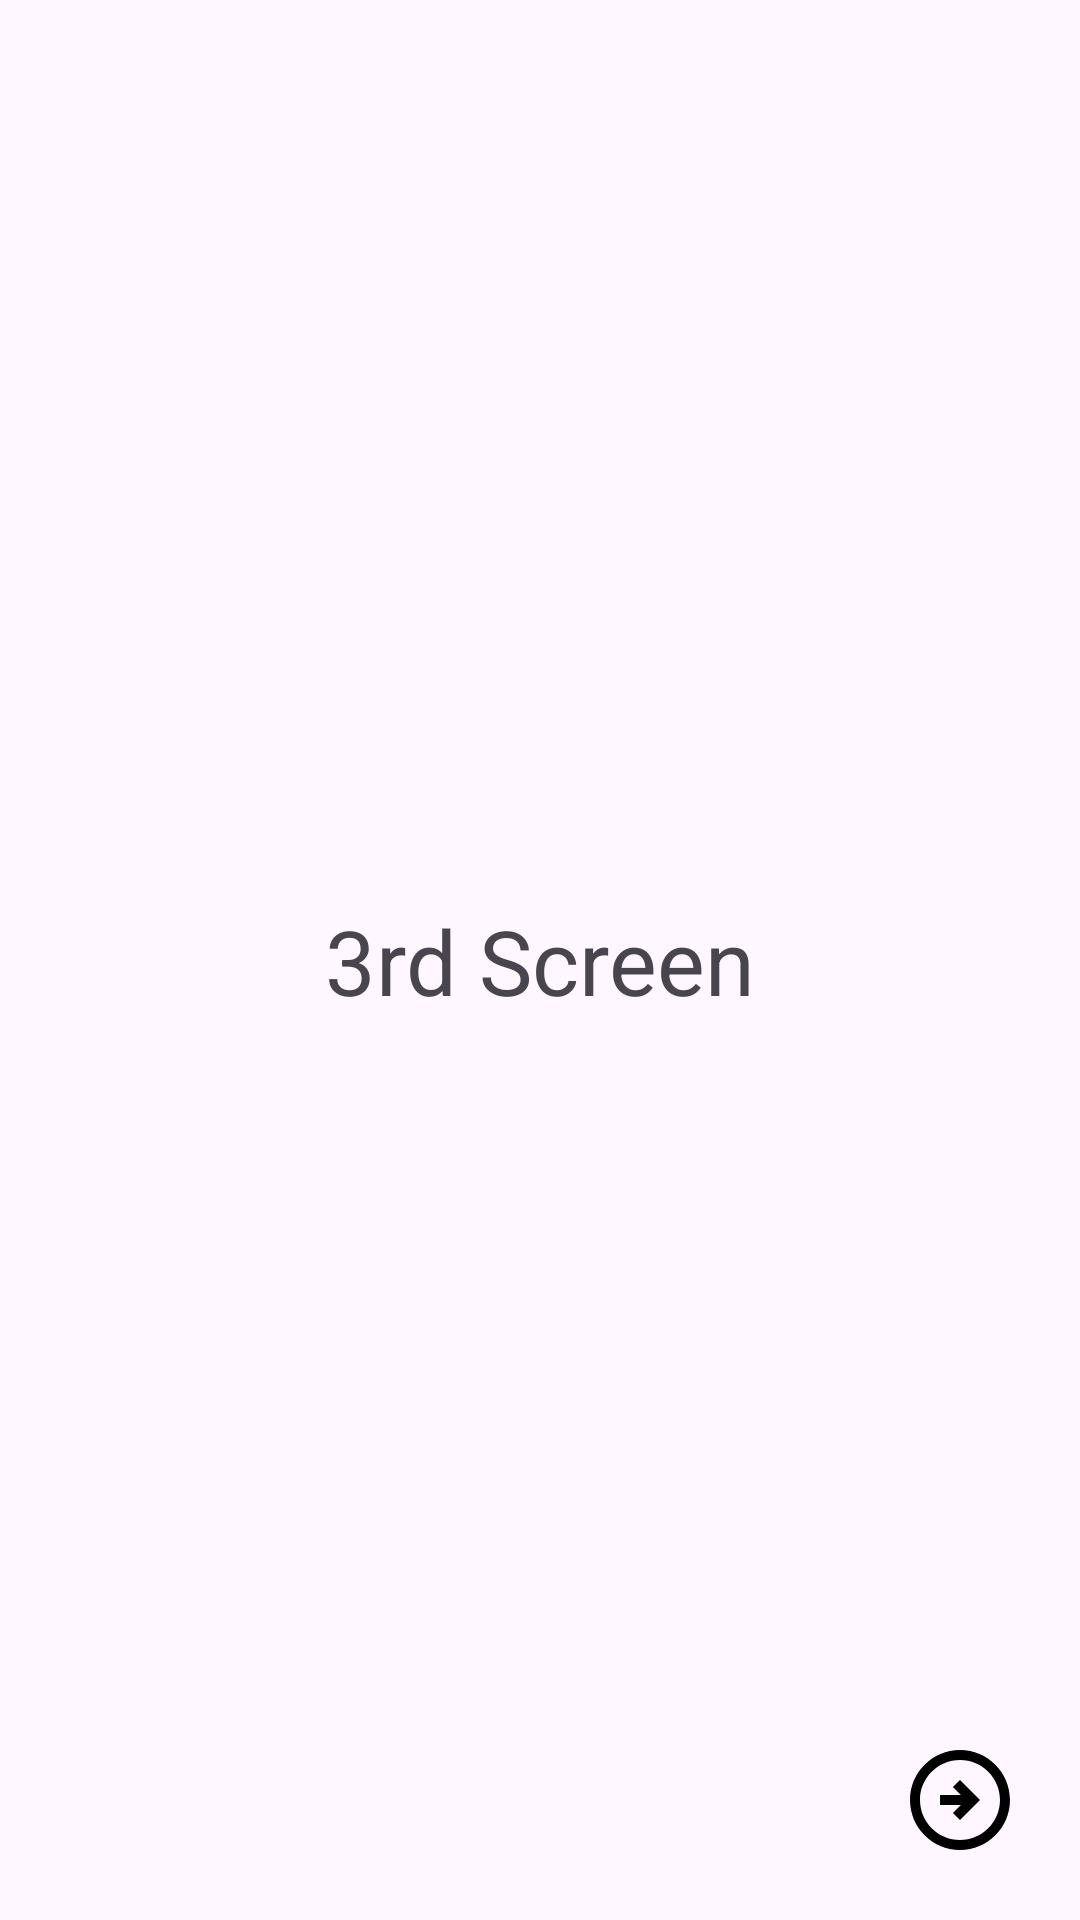

Icon bounding boxes for this 1080 x 1920 phone screenshot, format (x1, y1, x2, y2):
arrow circle right: (910, 1750, 1010, 1850)
